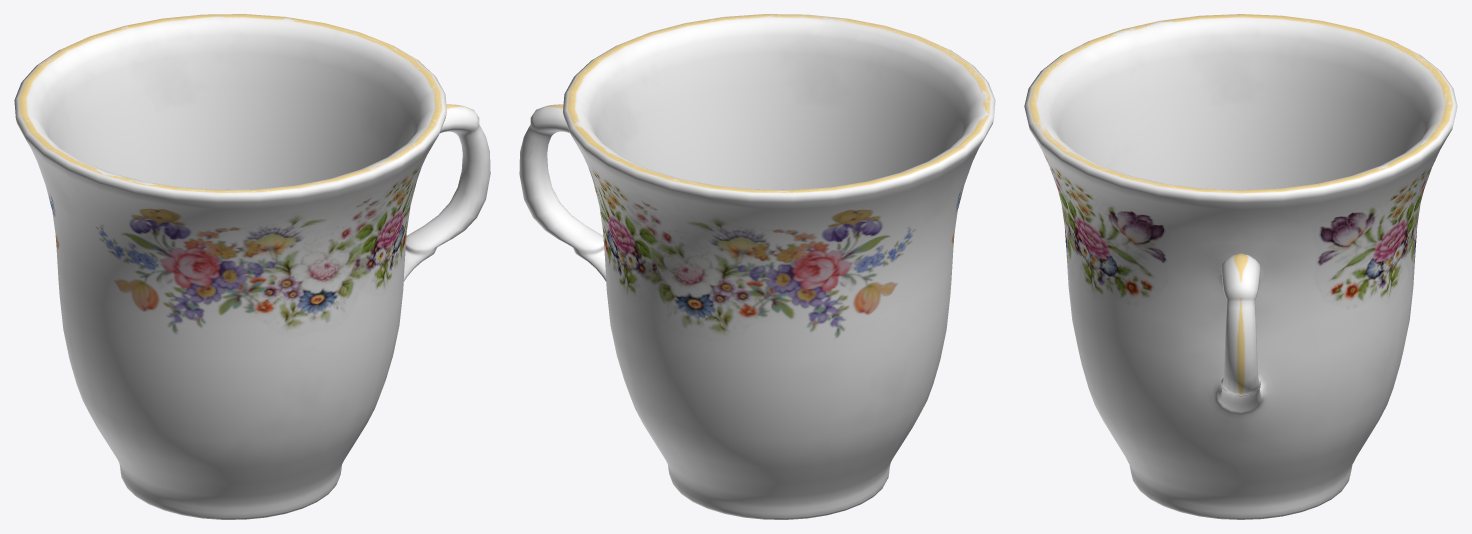
The model's file is cup_export 1.fbx.
3 views of the same model, side by side, from view 1: azimuth 30°, elevation 25°; view 2: azimuth 150°, elevation 25°; view 3: azimuth 270°, elevation 25° (orthographic).
Parts seen in each view (by area): view 1: porcelain_cup; view 2: porcelain_cup; view 3: porcelain_cup.
Boxes of the visible parts, bbox=[...] form: porcelain_cup: bbox=[14, 14, 490, 519]; porcelain_cup: bbox=[519, 14, 995, 519]; porcelain_cup: bbox=[1024, 14, 1457, 519].
Size of the model in its own units: 5.8 by 4.62 by 4.89.
